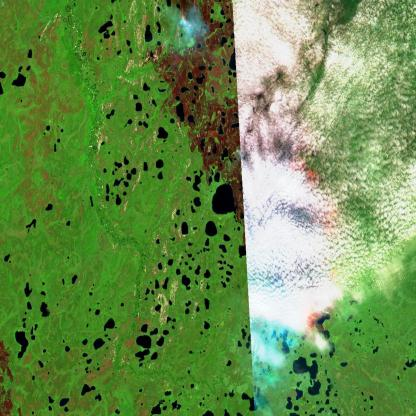fire: (176, 1, 352, 360)
